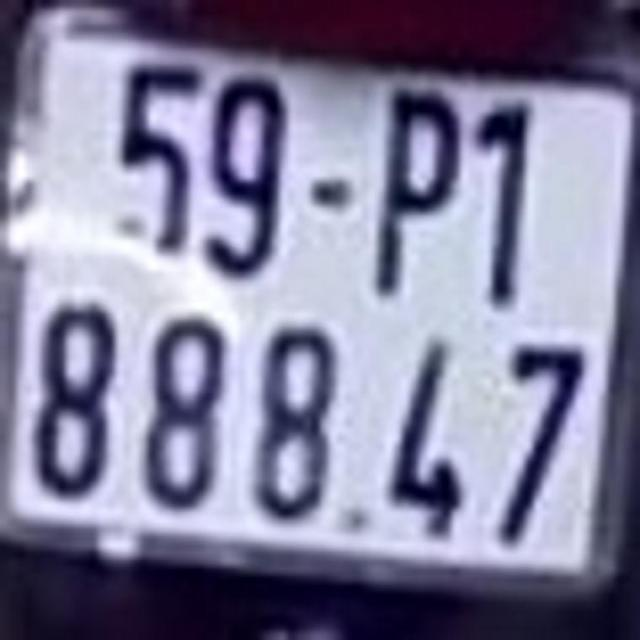1: (472, 90, 523, 304)
4: (384, 327, 467, 536)
5: (114, 53, 200, 266)
7: (497, 336, 587, 544)
8: (250, 314, 335, 520), (140, 307, 223, 511), (32, 298, 115, 497)
9: (206, 70, 286, 278)
P: (374, 83, 464, 296)
